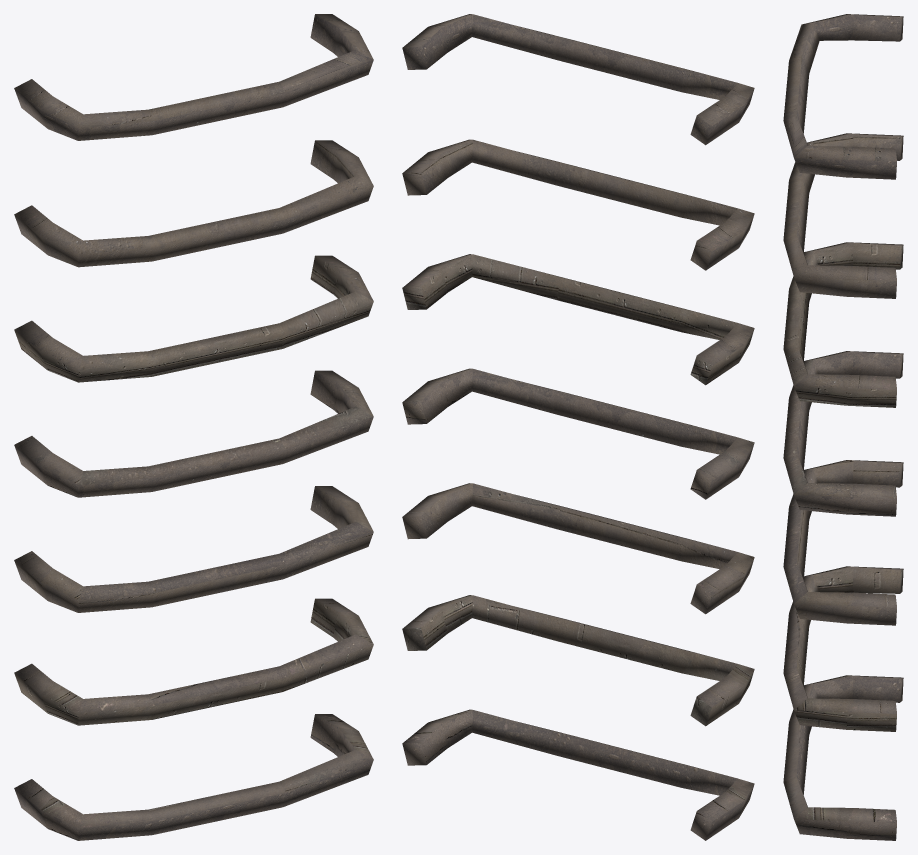
File: Corridor_01_24.fbx
The picture shows the model from 3 angles, left to right: view 1: azimuth 30°, elevation 25°; view 2: azimuth 150°, elevation 25°; view 3: azimuth 270°, elevation 25°; orthographic projection. The views are drawn at different scales.
Visible parts, largest first — view 1: Corridor_01_24; view 2: Corridor_01_24; view 3: Corridor_01_24.
Boxes of the visible parts, x1,y1,x2,y2 form: Corridor_01_24: (14, 14, 373, 840); Corridor_01_24: (402, 14, 754, 840); Corridor_01_24: (783, 14, 903, 840).
Size of the model in its own units: 133 by 292 by 45.82.
